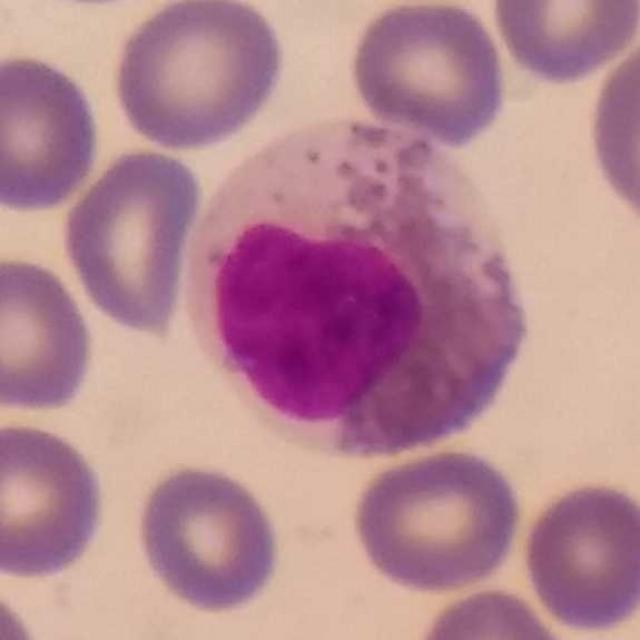eosino: (187, 112, 530, 463)
